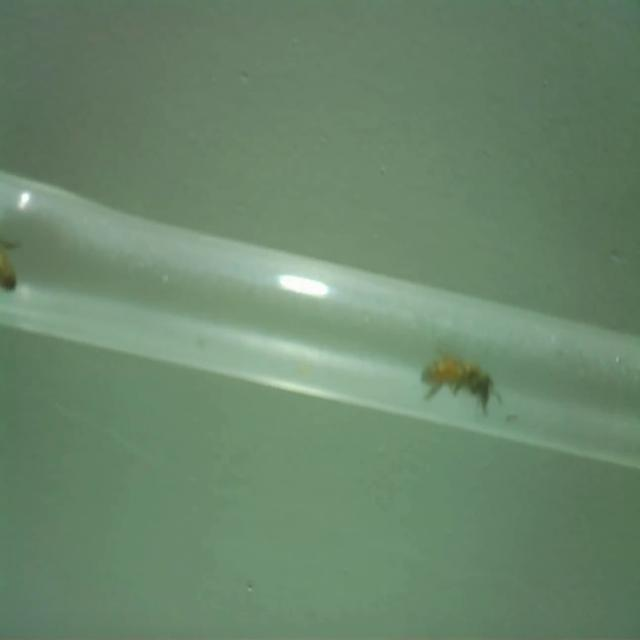Honeybee-Detection: (421, 344, 503, 415), (0, 218, 22, 294)
